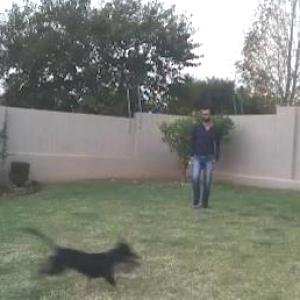follow: (188, 105, 219, 208)
